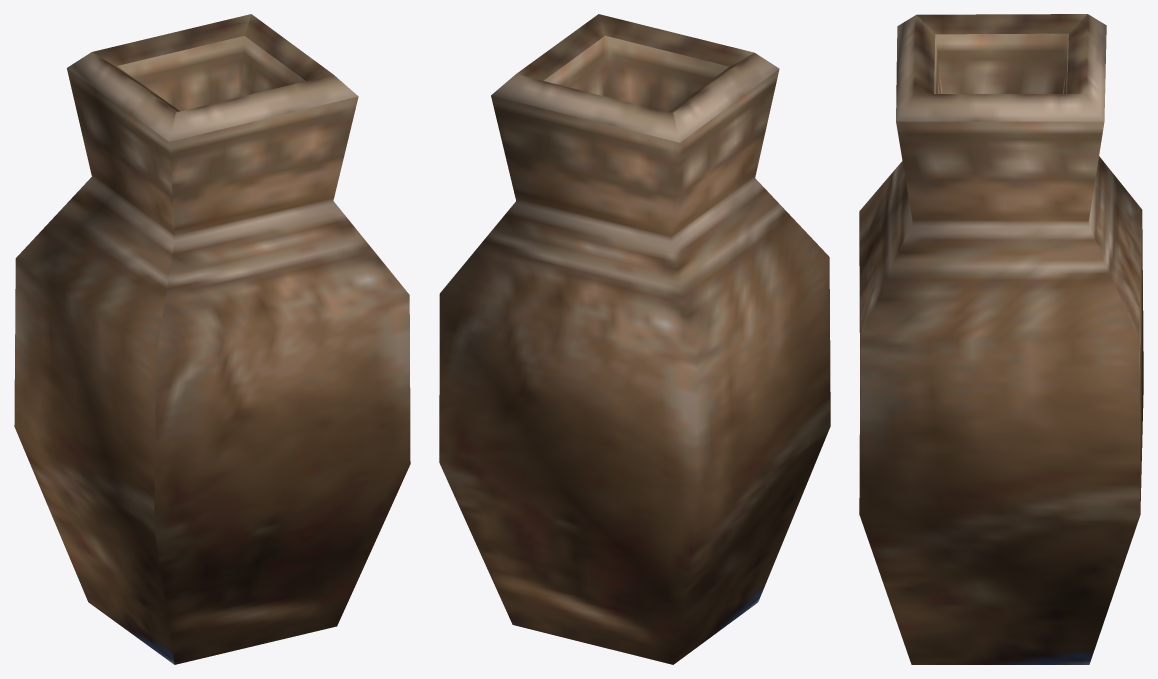
The model's file is 6002_Item_taoguan01.FBX.
3 renders of one model, left to right at view 1: azimuth 30°, elevation 25°; view 2: azimuth 150°, elevation 25°; view 3: azimuth 270°, elevation 25°, orthographic. The views are drawn at different scales.
Parts seen in each view (by area): view 1: 6002_Item_taoguan01; view 2: 6002_Item_taoguan01; view 3: 6002_Item_taoguan01.
Part boxes in pixels (bbox=[...]): 6002_Item_taoguan01: bbox=[14, 14, 410, 664]; 6002_Item_taoguan01: bbox=[439, 14, 830, 664]; 6002_Item_taoguan01: bbox=[859, 14, 1143, 664].
Size of the model in its own units: 57.13 by 116 by 52.44.
